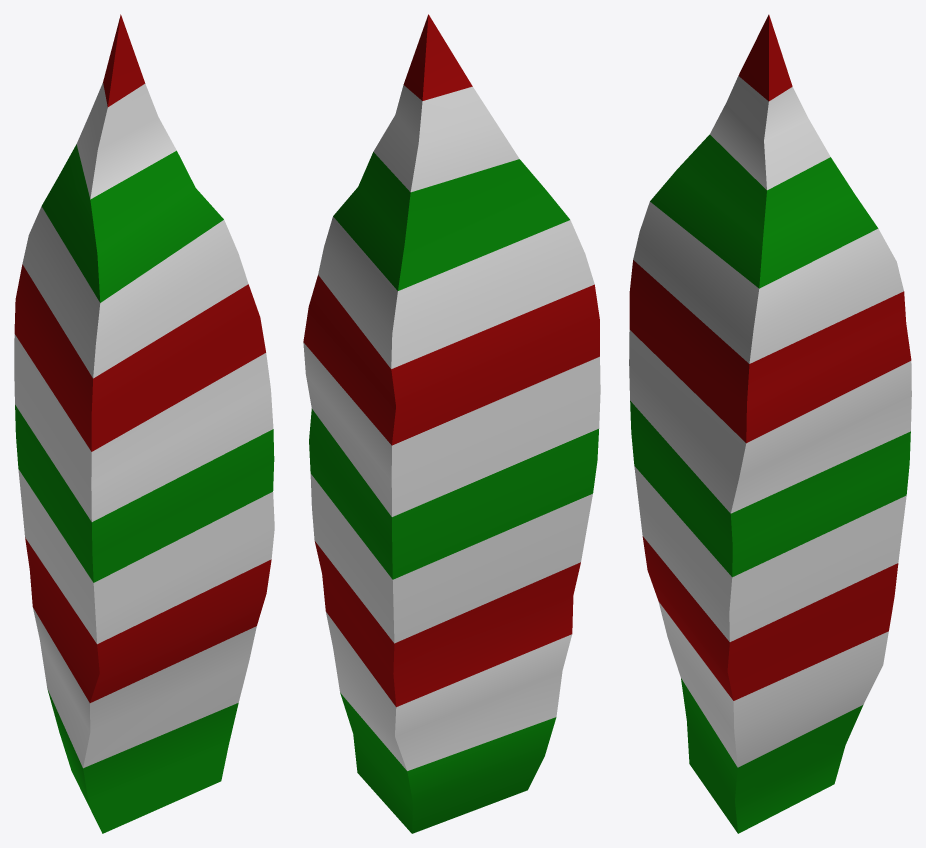
Rendered from biru03_itaria.fbx.
3 views of the same model, side by side, from view 1: azimuth 30°, elevation 25°; view 2: azimuth 150°, elevation 25°; view 3: azimuth 270°, elevation 25° (orthographic).
Parts seen in each view (by area): view 1: pPyramid1; view 2: pPyramid1; view 3: pPyramid1.
Part boxes in pixels (left/top/right/bottom): pPyramid1: left=14, top=14, right=274, bottom=833; pPyramid1: left=303, top=14, right=600, bottom=833; pPyramid1: left=629, top=14, right=911, bottom=833.
Size of the model in its own units: 21.43 by 67.82 by 22.33.
